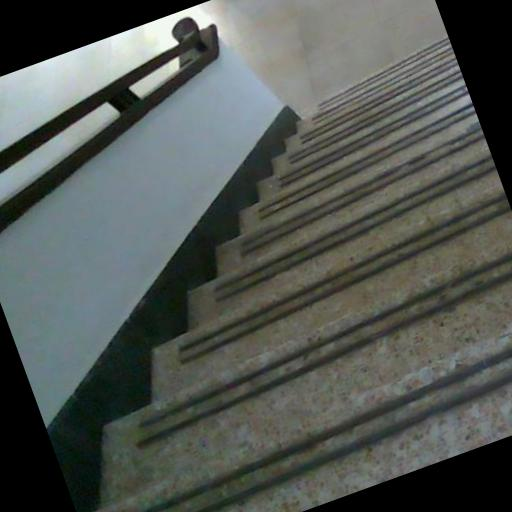stairs: (98, 38, 511, 511)
